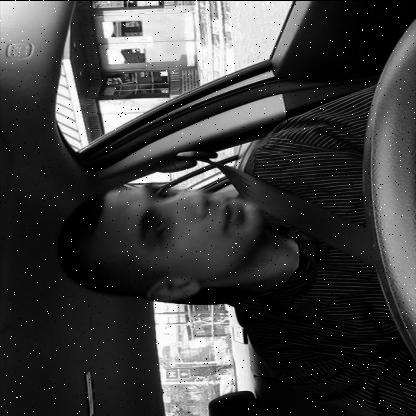seatbelt: (39, 144, 391, 302)
